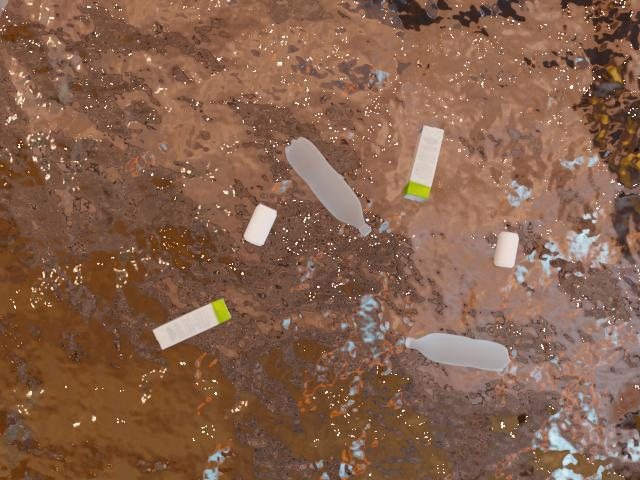Metal: (488, 218, 540, 276), (232, 205, 292, 248)
Plastic: (281, 123, 378, 251), (377, 324, 546, 385)
Trash: (149, 282, 244, 362), (394, 118, 450, 209)
